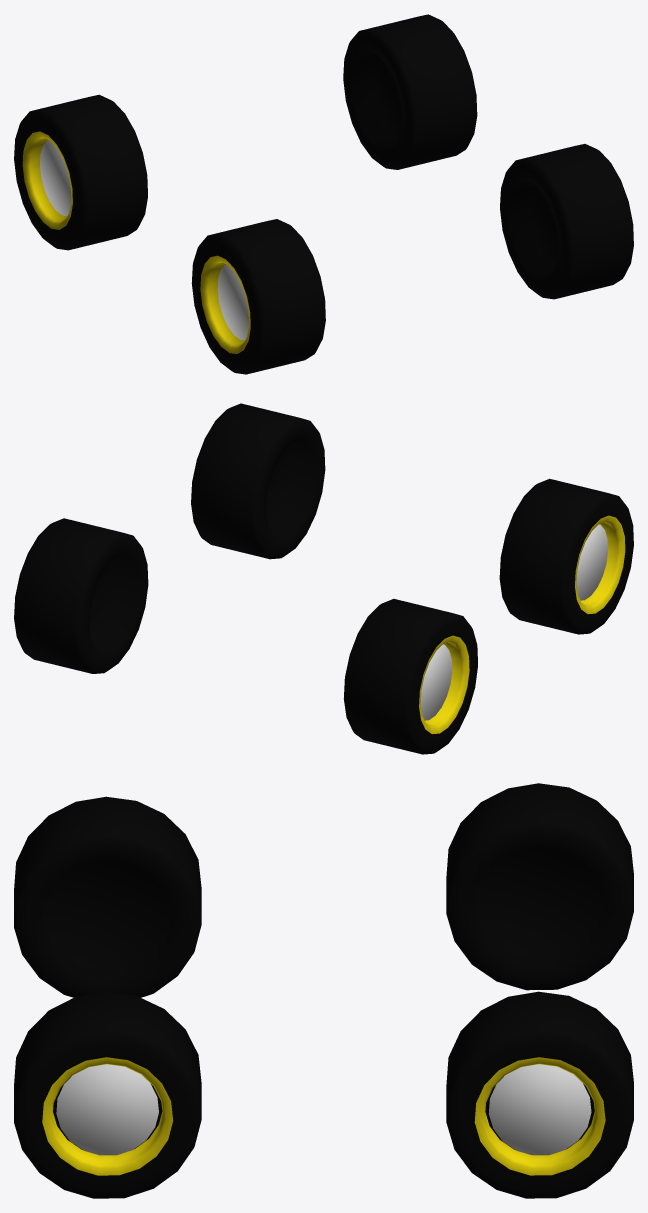
File: player-kart-speedtire.glb
3 views of the same model, one above another, from view 1: azimuth 30°, elevation 25°; view 2: azimuth 150°, elevation 25°; view 3: azimuth 270°, elevation 25° (orthographic). The views are drawn at different scales.
Visible parts, largest first — view 1: speedtire; view 2: speedtire; view 3: speedtire.
Boxes of the visible parts, x1,y1,x2,y2 form: speedtire: [14, 14, 633, 374]; speedtire: [14, 403, 633, 754]; speedtire: [14, 783, 633, 1198].
Bounding box in the file's own units: 0.7373 × 0.2416 × 0.7712.
